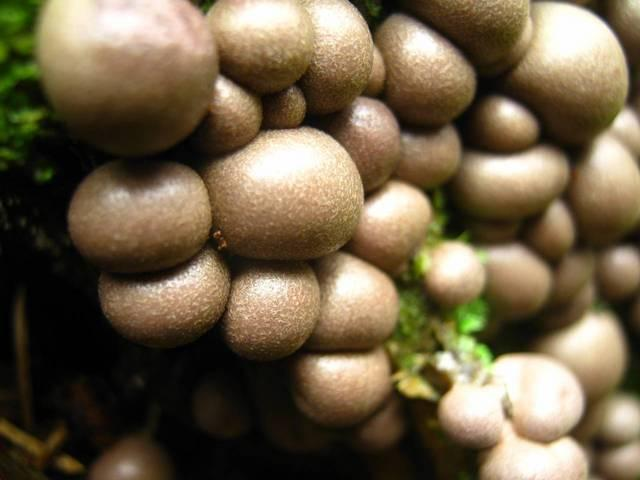Non-edible Mushroom: (31, 0, 639, 479), (33, 0, 219, 155), (202, 124, 365, 261), (503, 0, 629, 144), (65, 157, 212, 274), (205, 0, 315, 94)
